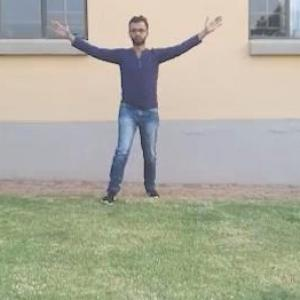takeoff: (35, 1, 216, 206)
